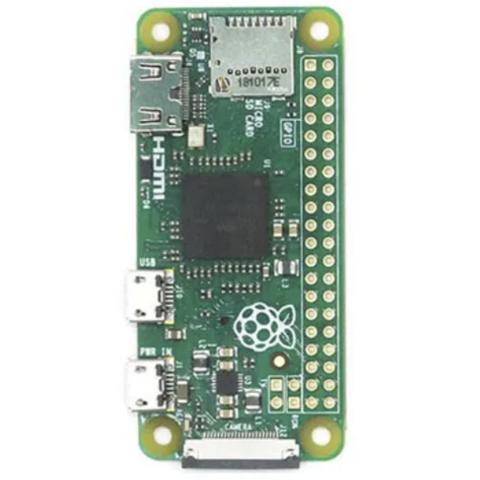Raspberry-Pi-Zero: (129, 4, 347, 470)
